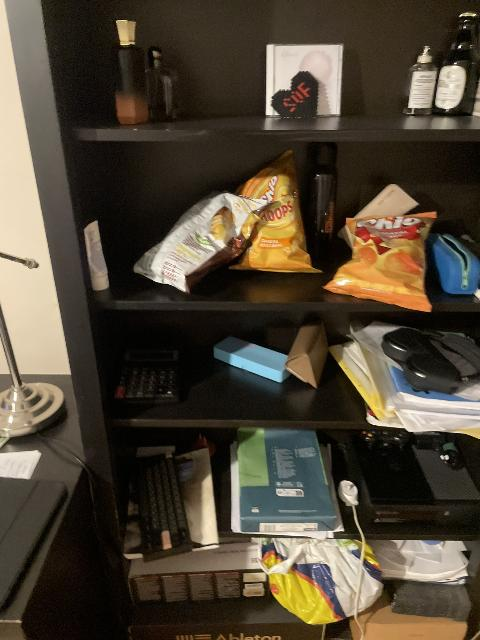Chio Cascaval 125g: (321, 210, 433, 311)
Chio Hula Hoops Cheese 70g: (223, 150, 313, 274)
Lays Beef Grilled Ribs 125g: (132, 192, 268, 294)
